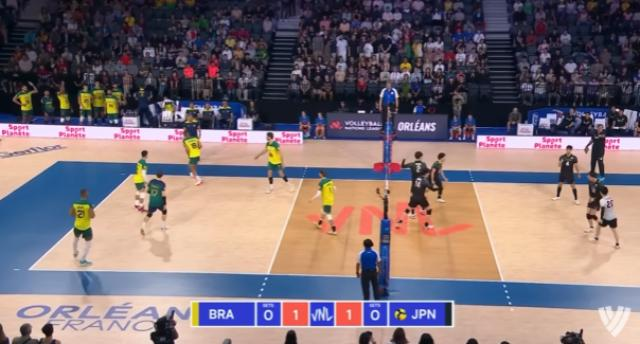Levantador: (306, 168, 349, 238), (428, 150, 448, 202)
Libero: (136, 168, 174, 236), (590, 185, 622, 253)
